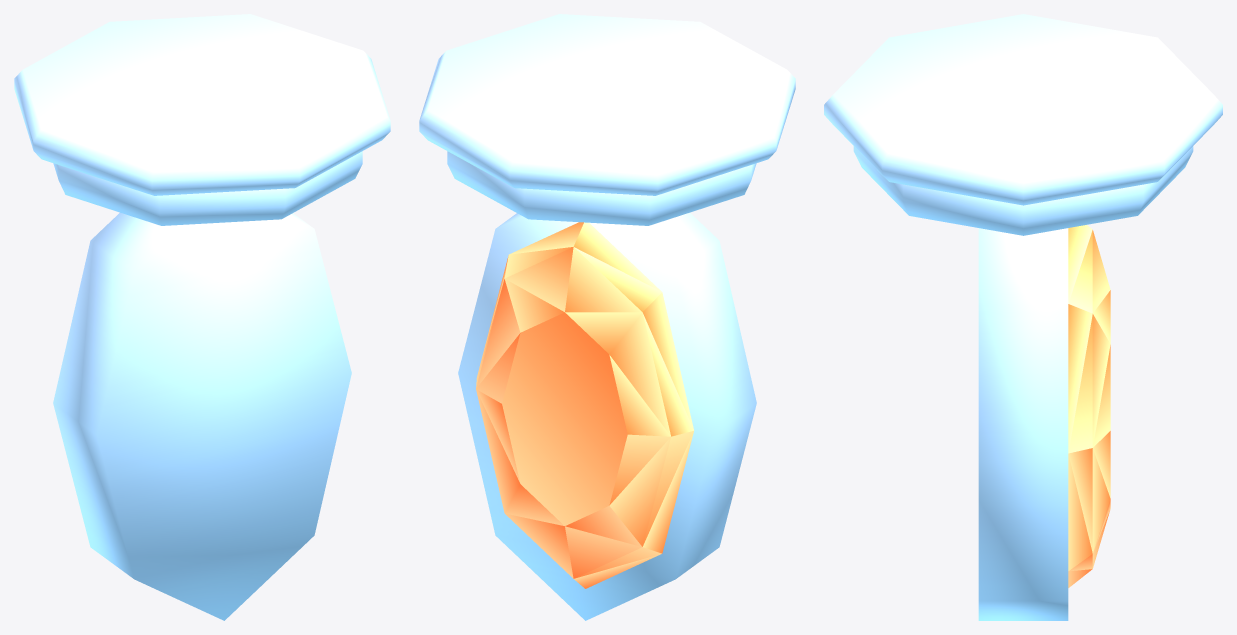
Rendered from steel_pommel_140.glb.
3 views of the same model, side by side, from view 1: azimuth 30°, elevation 25°; view 2: azimuth 150°, elevation 25°; view 3: azimuth 270°, elevation 25° (orthographic). The views are drawn at different scales.
Visible parts, largest first — view 1: steel_pommel_140; view 2: steel_pommel_140; view 3: steel_pommel_140.
Part boxes in pixels (left/top/right/bottom): steel_pommel_140: left=14, top=14, right=390, bottom=620; steel_pommel_140: left=419, top=14, right=795, bottom=620; steel_pommel_140: left=824, top=14, right=1222, bottom=620.
Bounding box in the file's own units: 2.26 × 3.29 × 2.26.
Materials: 1 (1 with a texture image).
